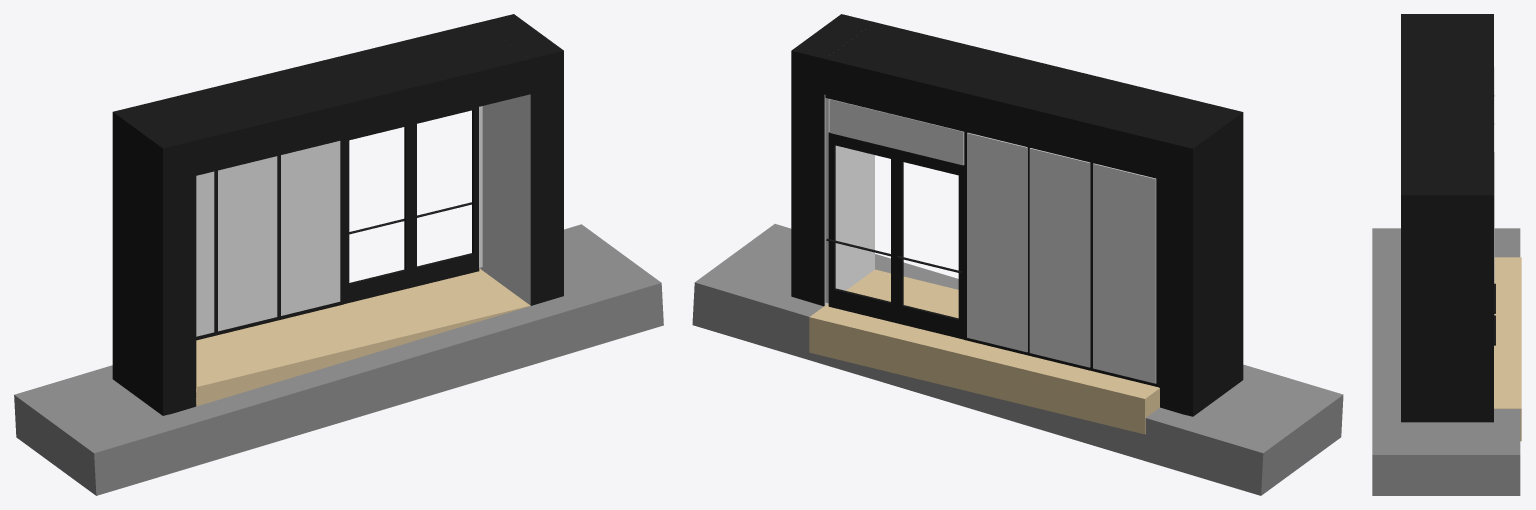
File: Roots_Front.fbx
The picture shows the model from 3 angles, left to right: view 1: azimuth 30°, elevation 25°; view 2: azimuth 150°, elevation 25°; view 3: azimuth 270°, elevation 25°; orthographic projection. The views are drawn at different scales.
Parts seen in each view (by area): view 1: Cube.003, Cube.001, Cube, Cube.002, Cube.004, Cube.014, Cube.013, Cube.007, Cube.015, Cube.012, Cube.005; view 2: Cube.003, Cube.001, Cube, Cube.004, Cube.002, Cube.012, Cube.014, Cube.013, Cube.016, Cube.007, Cube.015, Cube.005 (+4 smaller); view 3: Cube.002, Cube.003, Cube.001, Cube.004, Cube.
Part boxes in pixels (x1,y1,x2,y2): Cube.003: [14, 224, 663, 495]; Cube.001: [147, 22, 530, 175]; Cube: [112, 103, 196, 415]; Cube.002: [480, 14, 563, 305]; Cube.004: [196, 268, 530, 406]; Cube.014: [218, 156, 277, 331]; Cube.013: [281, 141, 340, 315]; Cube.007: [344, 123, 411, 303]; Cube.015: [411, 107, 479, 287]; Cube.012: [196, 171, 214, 336]; Cube.005: [214, 140, 343, 332]; Cube.003: [692, 224, 1343, 495]; Cube.001: [824, 22, 1209, 175]; Cube: [1159, 104, 1243, 416]; Cube.004: [809, 269, 1159, 434]; Cube.002: [791, 14, 874, 306]; Cube.012: [1093, 163, 1156, 383]; Cube.014: [1029, 148, 1090, 367]; Cube.013: [967, 132, 1027, 352]; Cube.016: [829, 99, 964, 165]; Cube.007: [896, 153, 964, 339]; Cube.015: [828, 136, 896, 322]; Cube.005: [964, 132, 1093, 367]; Cube.002: [1401, 180, 1493, 422]; Cube.003: [1372, 228, 1520, 495]; Cube.001: [1401, 29, 1493, 179]; Cube.004: [1494, 257, 1521, 441]; Cube: [1401, 14, 1493, 28].
Size of the model in its own units: 1010 by 535 by 248.
